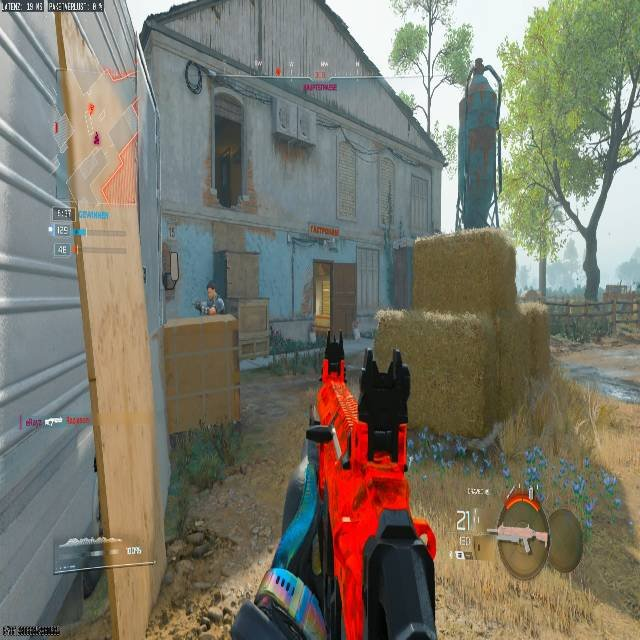head: (206, 284, 216, 299)
player: (195, 284, 223, 314)
